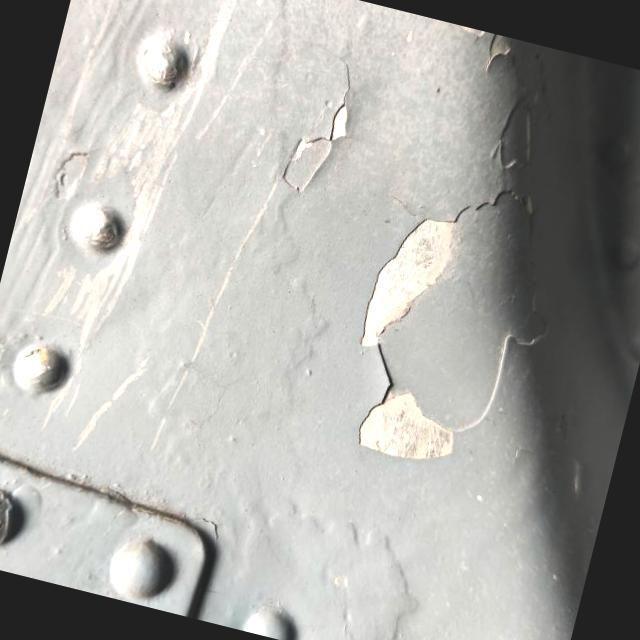paint-off: (297, 182, 527, 506), (261, 46, 381, 216)
